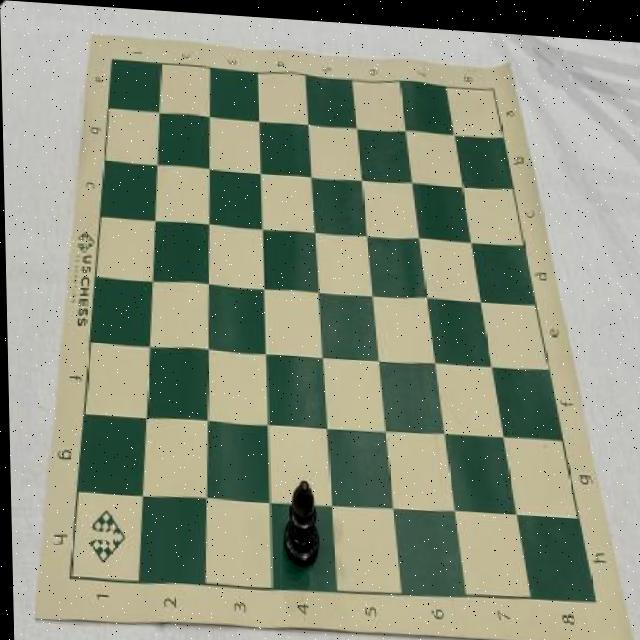bishop: (281, 476, 319, 565)
